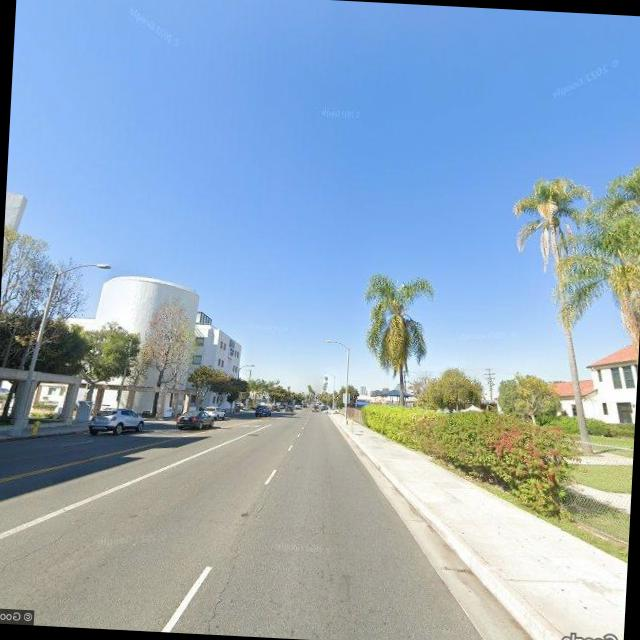pothole: (0, 517, 77, 605), (198, 557, 240, 635)
